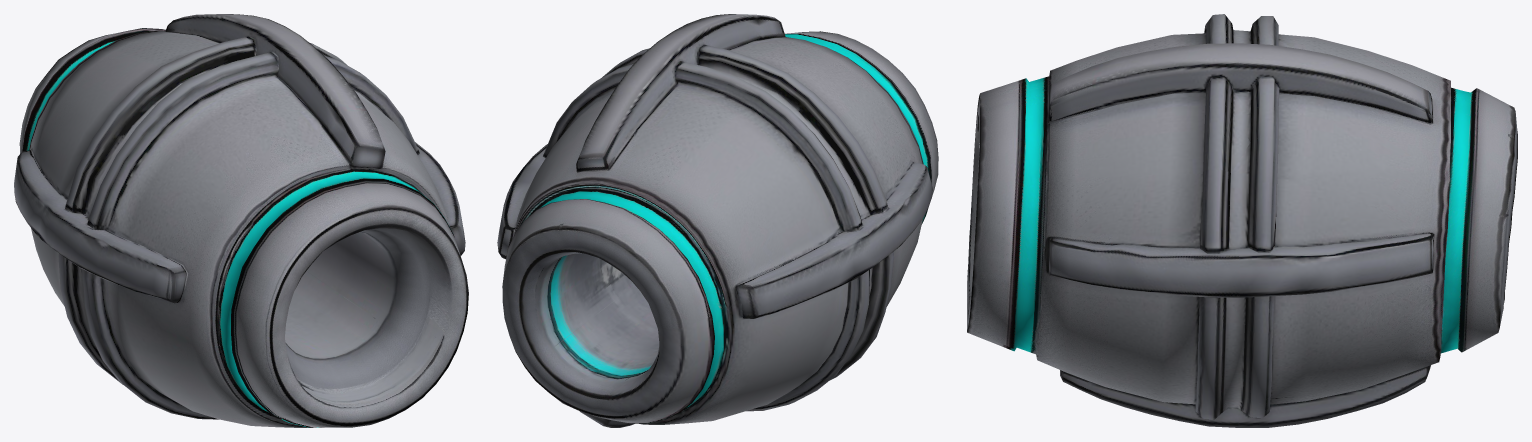
Rendered from attach_6.glb.
The picture shows the model from 3 angles, left to right: view 1: azimuth 30°, elevation 25°; view 2: azimuth 150°, elevation 25°; view 3: azimuth 270°, elevation 25°; orthographic projection. The views are drawn at different scales.
Parts seen in each view (by area): view 1: 6; view 2: 6; view 3: 6.
Boxes of the visible parts, x1=… form: 6: x1=14, y1=14, x2=468, y2=427; 6: x1=497, y1=14, x2=938, y2=427; 6: x1=967, y1=14, x2=1517, y2=427.
Bounding box in the file's own units: 0.1201 × 0.1177 × 0.1546.
1 material, 1 textured.
